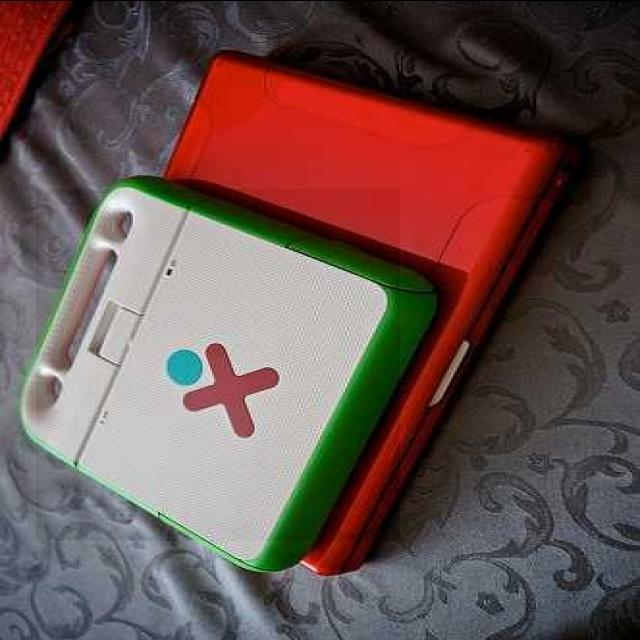-keyboard-: (36, 189, 400, 541)
